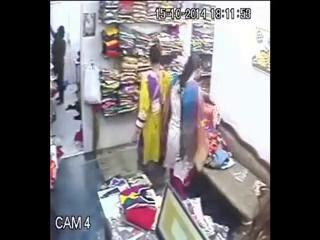shoplifting: (166, 46, 213, 178)
